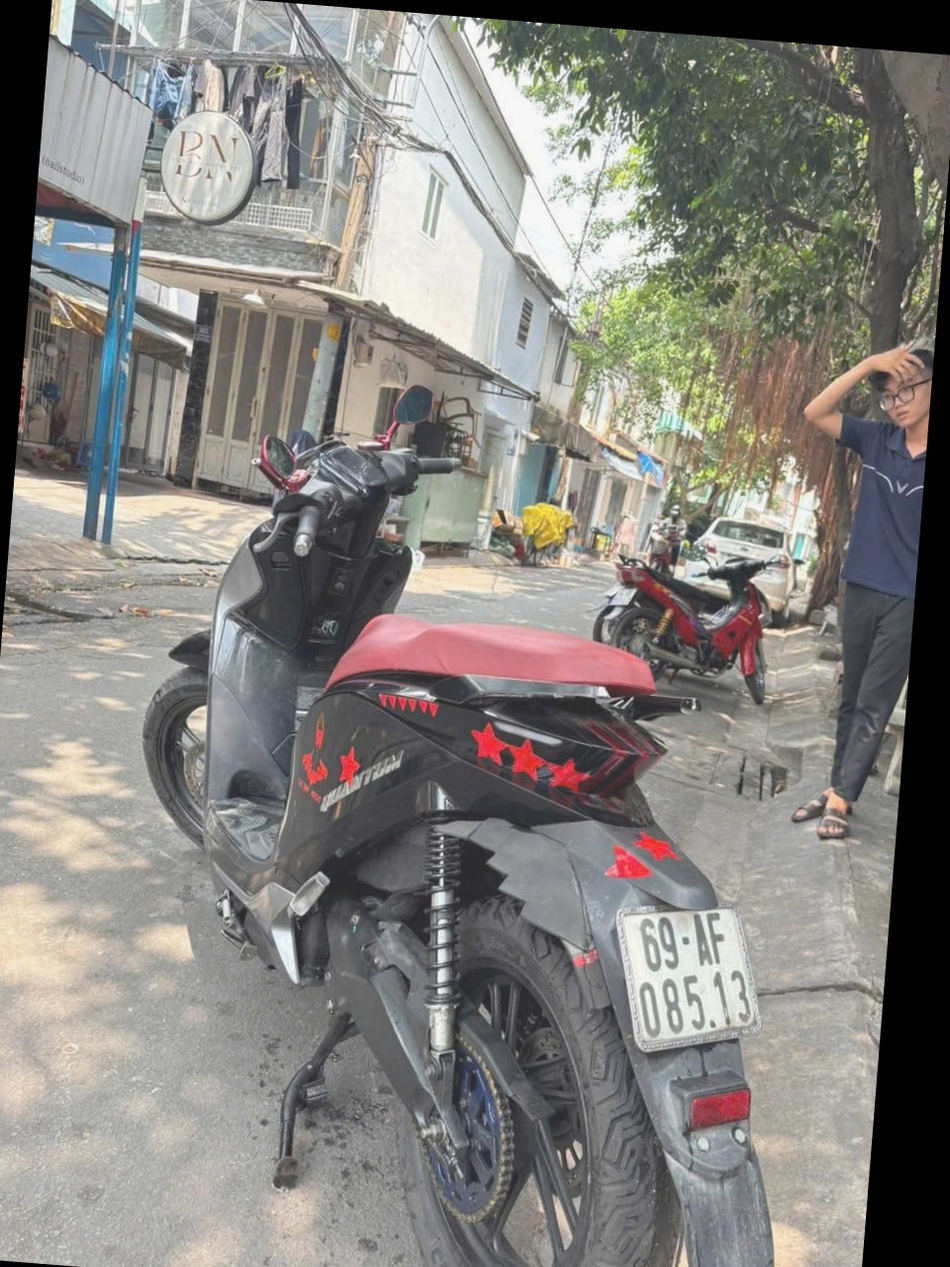Bien-so: (684, 850, 853, 1001)
